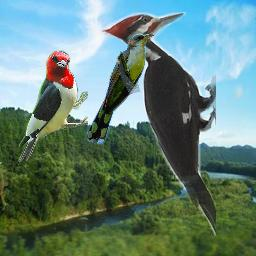Cuckoo: (87, 34, 154, 144)
Woodpecker: (100, 12, 216, 237), (15, 50, 88, 162)
